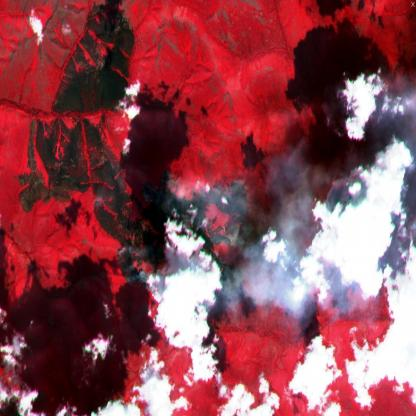fire: (146, 167, 256, 220), (115, 239, 143, 300), (92, 194, 103, 209)
